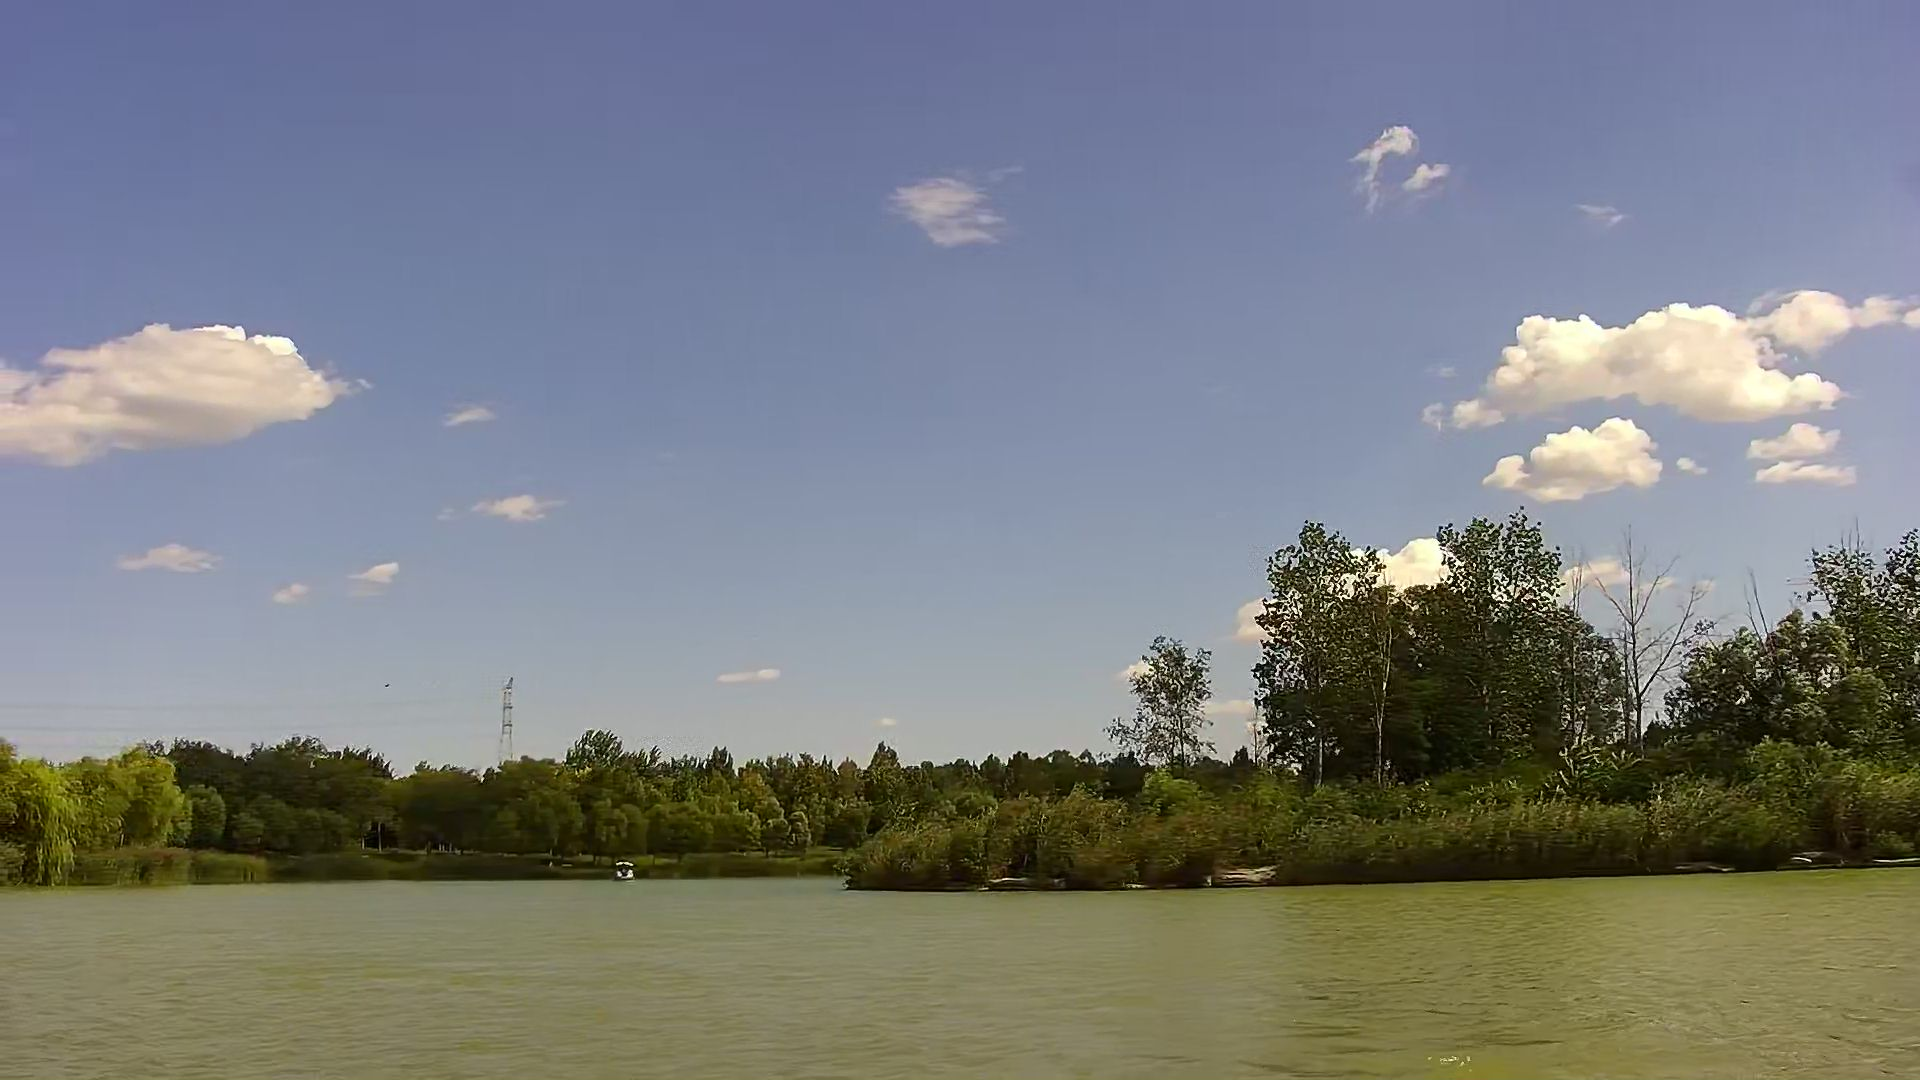rock: (1205, 861, 1275, 887), (982, 874, 1025, 893)
